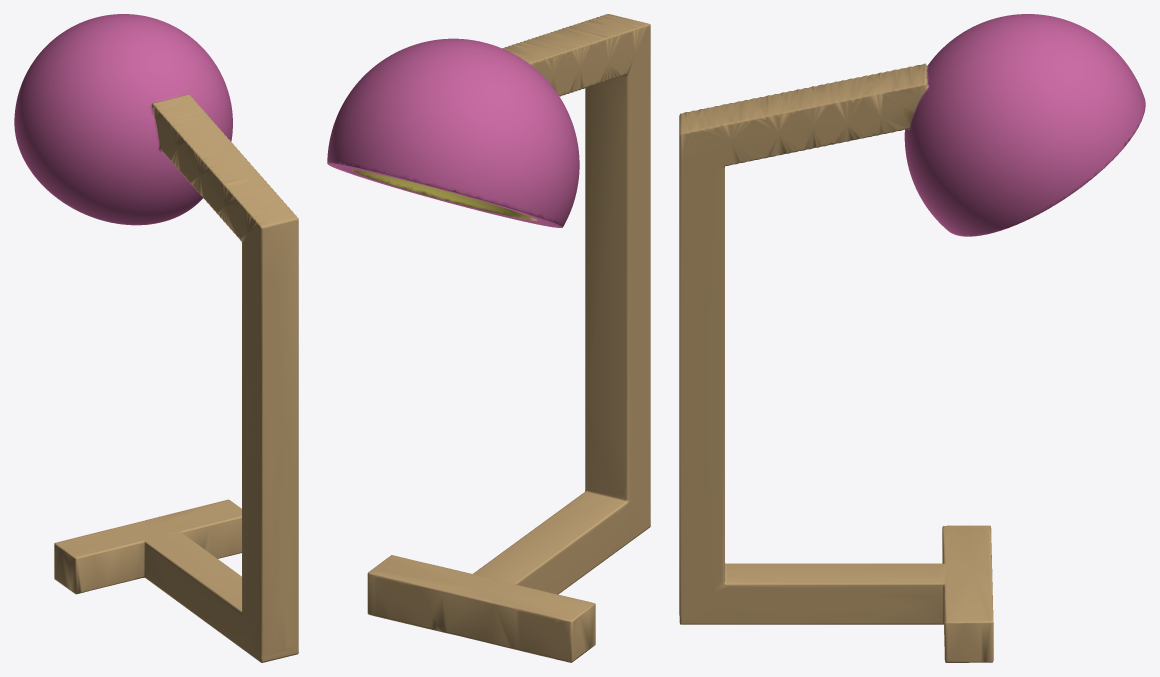
The model's file is Lamp.glb.
The picture shows the model from 3 angles, left to right: view 1: azimuth 30°, elevation 25°; view 2: azimuth 150°, elevation 25°; view 3: azimuth 270°, elevation 25°; orthographic projection. The views are drawn at different scales.
Parts seen in each view (by area): view 1: Area (2); view 2: Area (2); view 3: Area (2).
Boxes of the visible parts, x1,y1,x2,y2 form: Area (2): (14,14,298,662); Area (2): (327,14,650,662); Area (2): (679,14,1145,662).
Bounding box in the file's own units: 100 × 264 × 189.
Materials: 1 (1 with a texture image).
